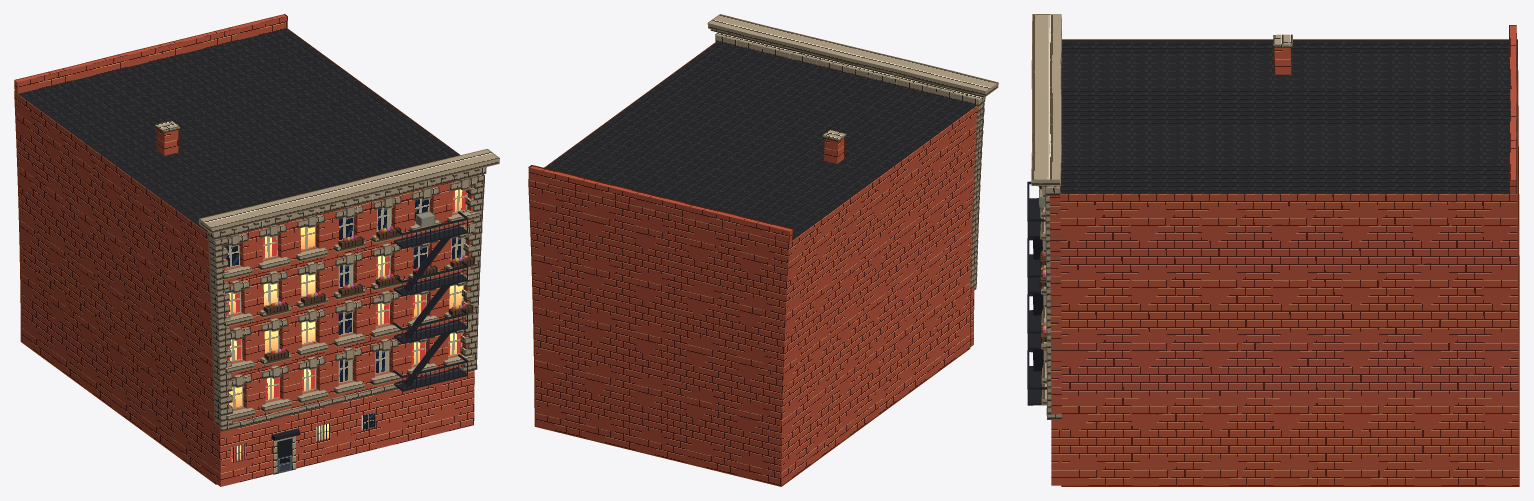
File: Haus_back_9.glb
3 views of the same model, side by side, from view 1: azimuth 30°, elevation 25°; view 2: azimuth 150°, elevation 25°; view 3: azimuth 270°, elevation 25° (orthographic). The views are drawn at different scales.
Parts seen in each view (by area): view 1: Haus_back_9; view 2: Haus_back_9; view 3: Haus_back_9.
Part boxes in pixels (left/top/right/bottom): Haus_back_9: left=14, top=14, right=499, bottom=486; Haus_back_9: left=528, top=14, right=998, bottom=486; Haus_back_9: left=1027, top=14, right=1519, bottom=486.
Size of the model in its own units: 22.19 by 20.51 by 27.92.
Materials: 20 (9 with a texture image).
